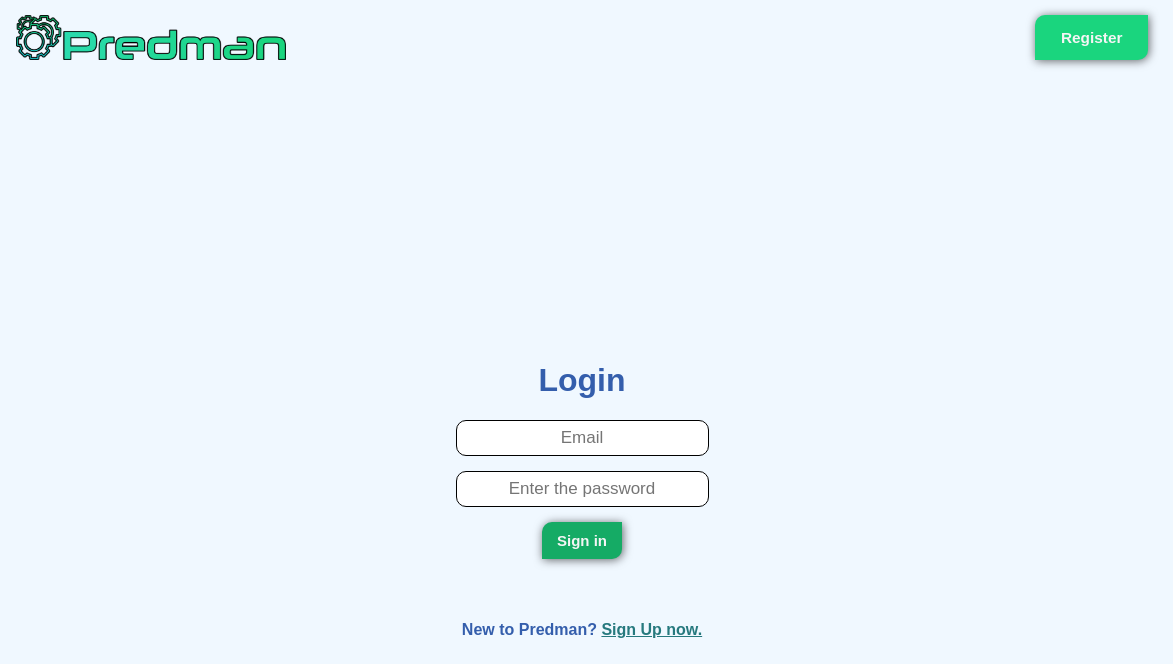
Login component › displays server error on 500 status
Type "test@example.com" into the field with placeholder "Email" at (582, 438), box [456,420,708,456]
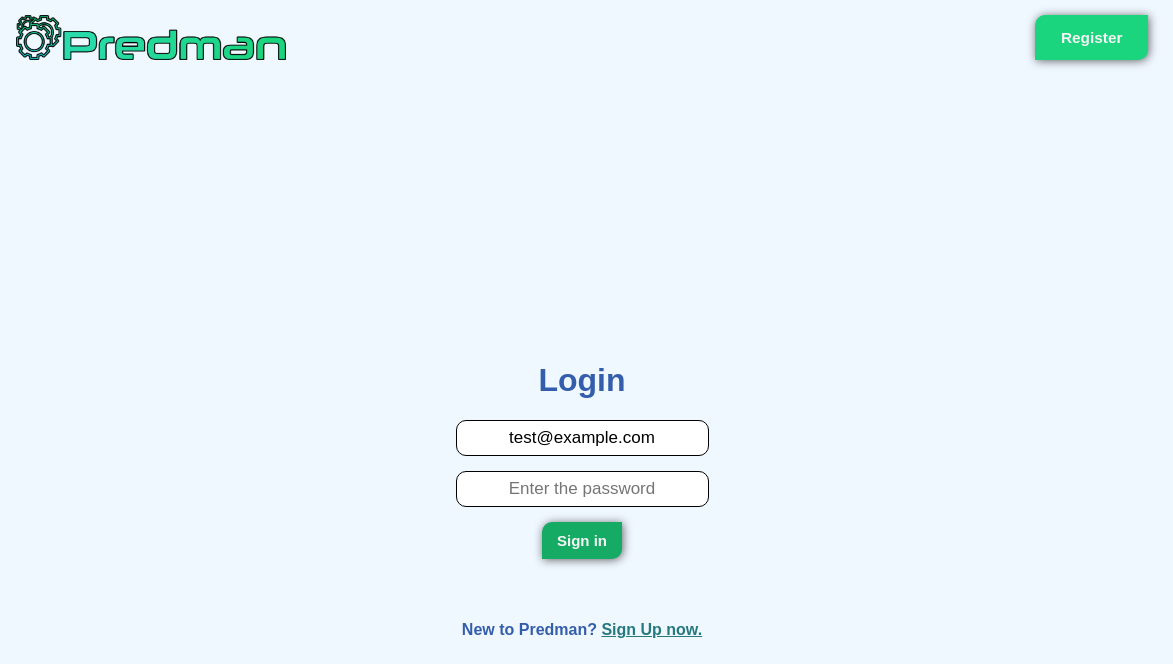
Type "password123" into the password field with placeholder "Enter the password" at (582, 489), box [456,471,708,507]
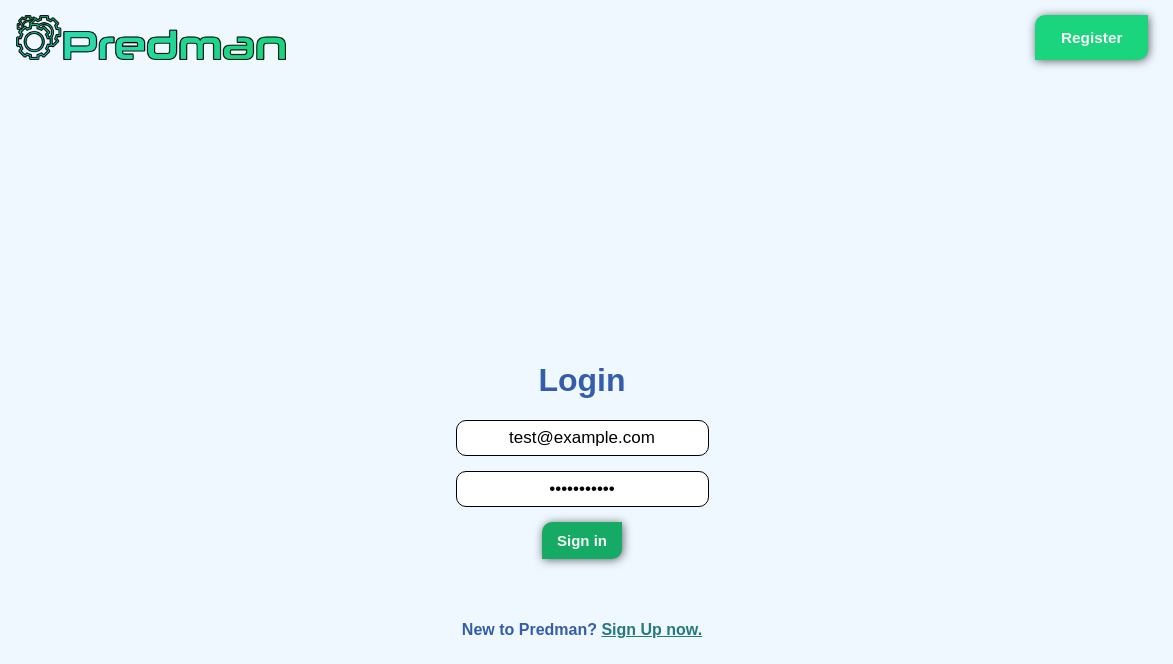
Click the button "Sign in" at (582, 541), box [542,522,622,559]
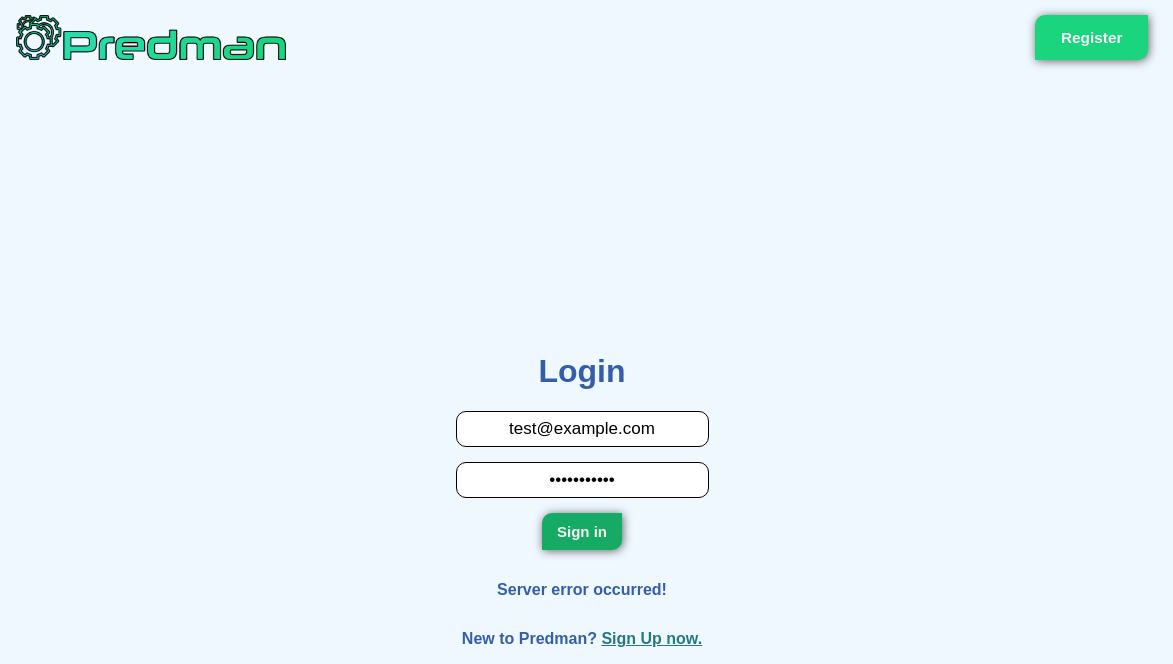
Result: the text "Server error occurred!" is shown at [497,581,667,599]
